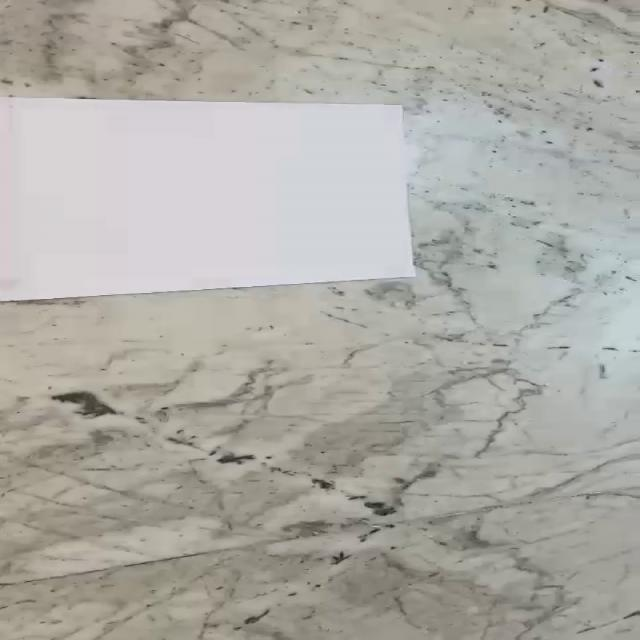road: (0, 98, 417, 303)
